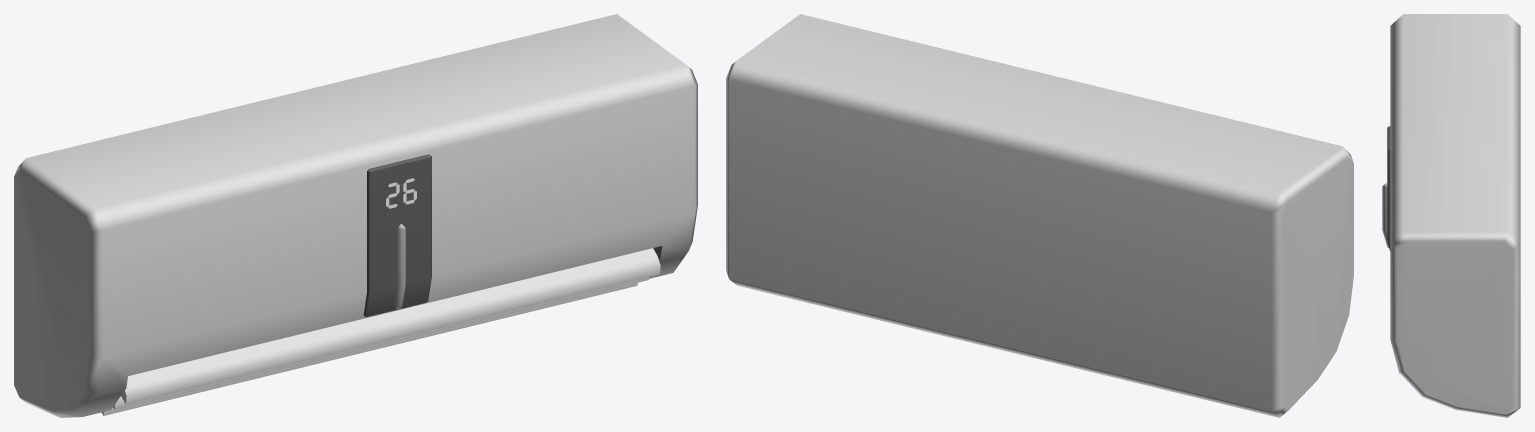
The model's file is electronics_014.fbx.
3 views of the same model, side by side, from view 1: azimuth 30°, elevation 25°; view 2: azimuth 150°, elevation 25°; view 3: azimuth 270°, elevation 25° (orthographic). The views are drawn at different scales.
Parts seen in each view (by area): view 1: electronics_014; view 2: electronics_014; view 3: electronics_014.
Boxes of the visible parts, left/top/right/bottom form: electronics_014: left=14, top=14, right=697, bottom=417; electronics_014: left=726, top=14, right=1353, bottom=417; electronics_014: left=1382, top=14, right=1520, bottom=417.
Size of the model in its own units: 155 by 40.35 by 59.86.
